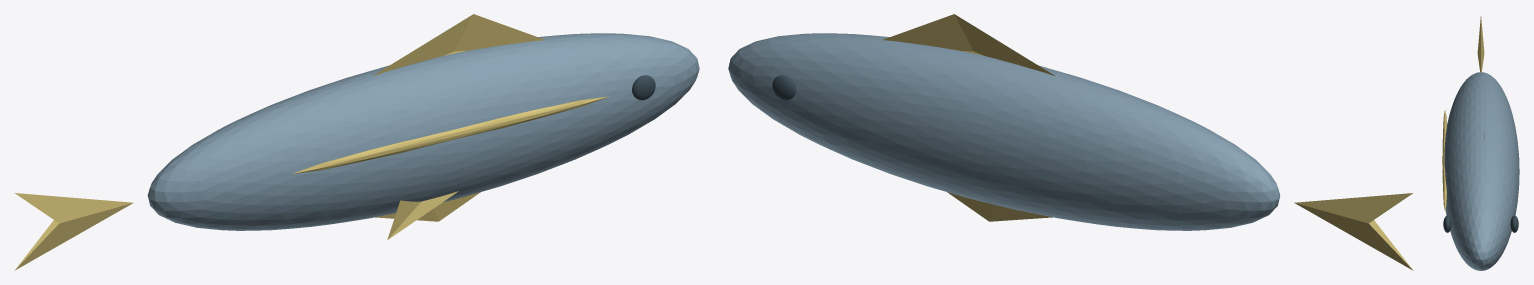
Rendered from Ikan_Tuna_Sirip_Kuning.glb.
3 views of the same model, side by side, from view 1: azimuth 30°, elevation 25°; view 2: azimuth 150°, elevation 25°; view 3: azimuth 270°, elevation 25° (orthographic). The views are drawn at different scales.
Visible parts, largest first — view 1: Part_00, Part_01, Part_02, Part_07, Part_04, Part_03, Part_05; view 2: Part_00, Part_01, Part_02, Part_03, Part_06; view 3: Part_00, Part_07, Part_01, Part_06, Part_05.
Part boxes in pixels (left/top/right/bottom): Part_00: left=147, top=33, right=699, bottom=230; Part_01: left=14, top=193, right=133, bottom=270; Part_02: left=373, top=14, right=544, bottom=75; Part_07: left=292, top=96, right=609, bottom=173; Part_04: left=387, top=191, right=458, bottom=239; Part_03: left=375, top=192, right=480, bottom=221; Part_05: left=632, top=75, right=655, bottom=100; Part_00: left=728, top=33, right=1280, bottom=230; Part_01: left=1294, top=193, right=1413, bottom=270; Part_02: left=883, top=14, right=1054, bottom=75; Part_03: left=947, top=192, right=1052, bottom=221; Part_06: left=772, top=75, right=795, bottom=100; Part_00: left=1442, top=72, right=1519, bottom=270; Part_07: left=1442, top=109, right=1446, bottom=211; Part_01: left=1477, top=16, right=1484, bottom=72; Part_06: left=1510, top=215, right=1518, bottom=232; Part_05: left=1443, top=215, right=1451, bottom=232.
Bounding box in the file's own units: 2.26 × 0.6292 × 0.3347.
